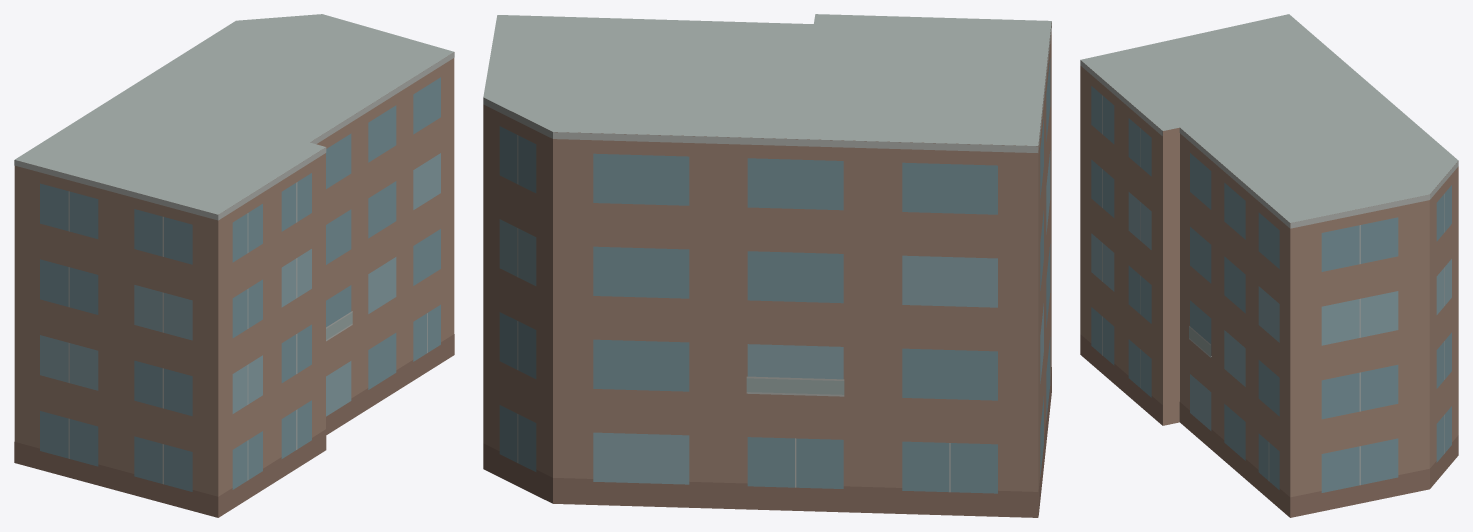
Rendered from survey-upis-32703249.glb.
3 renders of one model, left to right at view 1: azimuth 30°, elevation 25°; view 2: azimuth 150°, elevation 25°; view 3: azimuth 270°, elevation 25°, orthographic. The views are drawn at different scales.
Visible parts, largest first — view 1: survey-upis-32703249.tmp; view 2: survey-upis-32703249.tmp; view 3: survey-upis-32703249.tmp.
Boxes of the visible parts, x1,y1,x2,y2 form: survey-upis-32703249.tmp: (14,14,454,517); survey-upis-32703249.tmp: (483,14,1051,517); survey-upis-32703249.tmp: (1080,14,1458,517).
Size of the model in its own units: 19.56 by 12.85 by 14.95.
